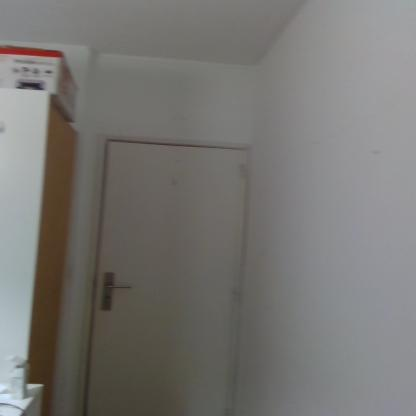closed: (93, 129, 240, 416)
